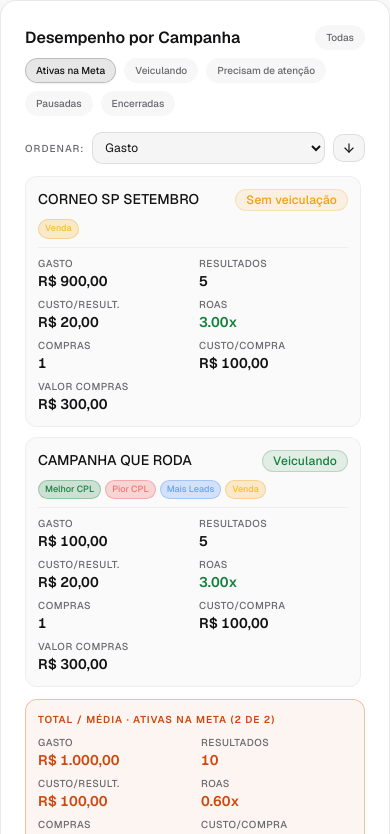
Test: CampaignsTable — o filtro que mentia › o rodapé passa a dizer QUE recorte ele está somando
Later steps or results of the test are not shown.
Check: the text "Total / Média · Ativas na Meta (2 de 2)" is shown, box [38,713,275,726]
Click the button "Veiculando": (161, 70) [124,58,198,83]
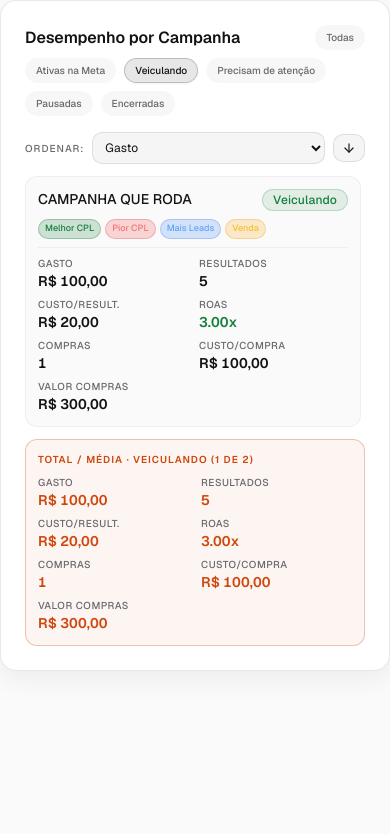
Check: the text "Total / Média · Veiculando (1 de 2)" is shown, box [38,452,254,466]
